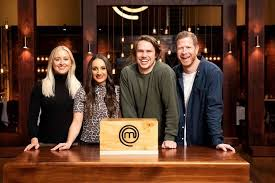Bad: (120, 31, 224, 118), (81, 35, 175, 118), (25, 46, 120, 118)
